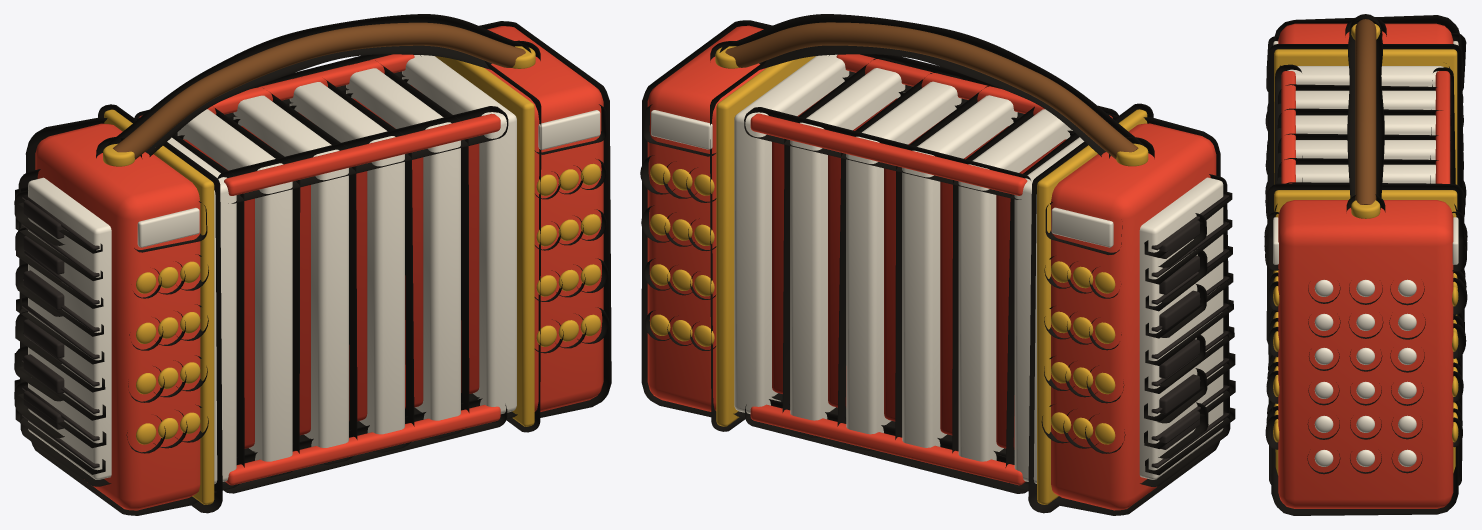
The model's file is accordion.glb.
The picture shows the model from 3 angles, left to right: view 1: azimuth 30°, elevation 25°; view 2: azimuth 150°, elevation 25°; view 3: azimuth 270°, elevation 25°; orthographic projection. The views are drawn at different scales.
Parts seen in each view (by area): view 1: Accordion, Accordion_outline; view 2: Accordion, Accordion_outline; view 3: Accordion, Accordion_outline.
Boxes of the visible parts, x1=… form: Accordion: x1=22, y1=22, x2=603, y2=510; Accordion_outline: x1=14, y1=14, x2=611, y2=515; Accordion: x1=647, y1=22, x2=1229, y2=510; Accordion_outline: x1=640, y1=14, x2=1235, y2=515; Accordion: x1=1273, y1=19, x2=1458, y2=508; Accordion_outline: x1=1264, y1=14, x2=1467, y2=515.
Bounding box in the file's own units: 2.64 × 1.95 × 0.9745.
